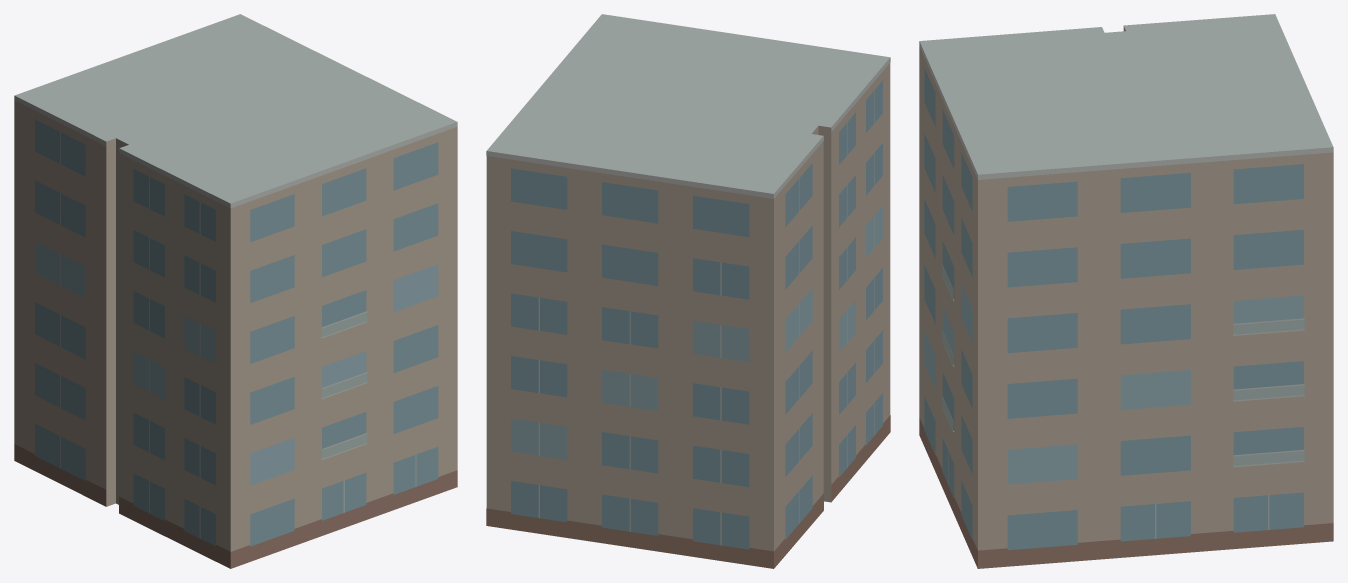
File: survey-upis-32705640.glb
3 renders of one model, left to right at view 1: azimuth 30°, elevation 25°; view 2: azimuth 150°, elevation 25°; view 3: azimuth 270°, elevation 25°, orthographic. The views are drawn at different scales.
Parts seen in each view (by area): view 1: survey-upis-32705640.tmp; view 2: survey-upis-32705640.tmp; view 3: survey-upis-32705640.tmp.
Boxes of the visible parts, left/top/right/bottom form: survey-upis-32705640.tmp: left=14, top=14, right=457, bottom=568; survey-upis-32705640.tmp: left=486, top=14, right=890, bottom=568; survey-upis-32705640.tmp: left=919, top=14, right=1333, bottom=568.
Bounding box in the file's own units: 16.11 × 18.4 × 17.53.
